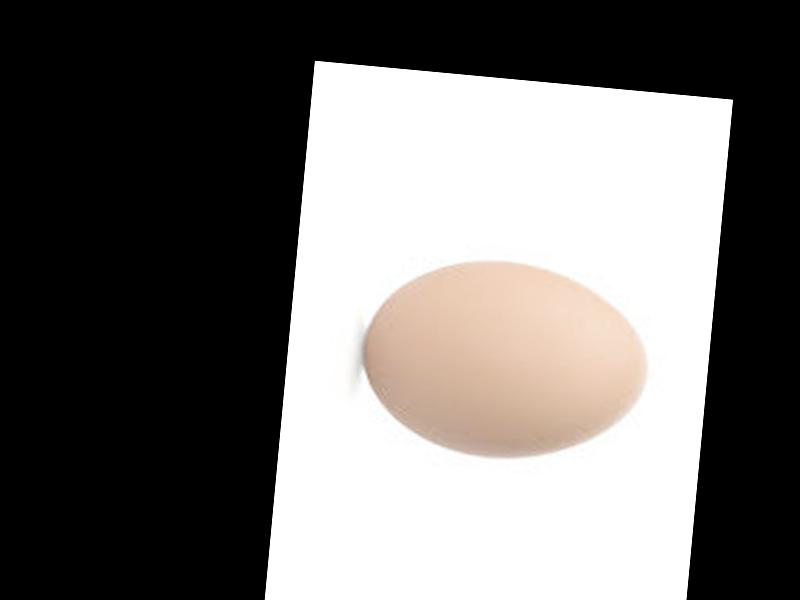Eggs: (352, 251, 652, 470)
